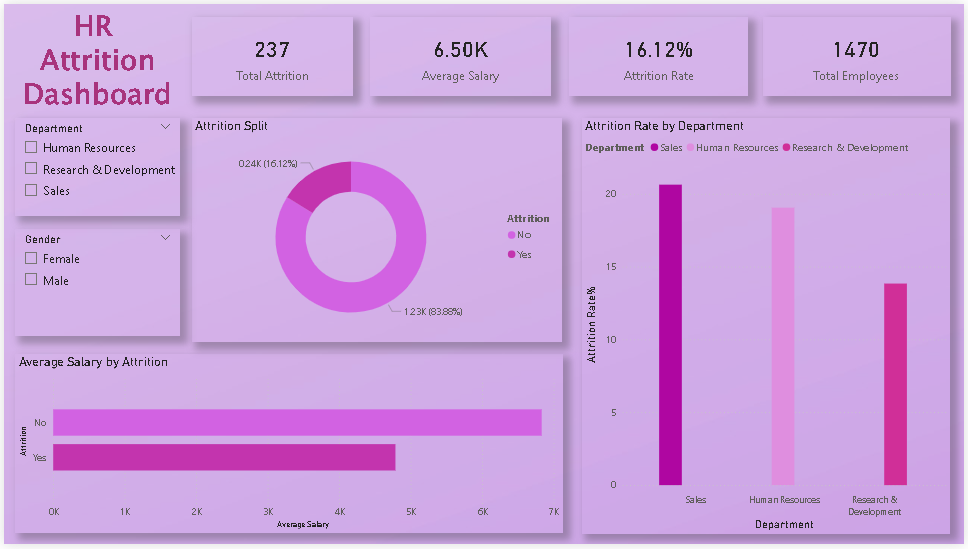

What the dashboard file says about the page in this screenshot:
{"tool":"powerbi","page":{"name":"HR Attrition Dashboard","canvas":[1280,720],"ordinal":0},"visuals":[{"type":"donutChart","title":"Attrition Split","fields":{"Category":["HR_Attrition_Clean.Attrition"],"Y":["CountNonNull(HR_Attrition_Clean.EmployeeNumber)"]},"box":[250.3,150.9,494.5,299.4],"z":0},{"type":"card","fields":{"Values":["HR_Attrition_Clean.Total Attrition"]},"box":[250.3,16,216,106.7],"z":1000},{"type":"card","fields":{"Values":["HR_Attrition_Clean.Total Employees"]},"box":[1011,16,250.3,106.7],"z":2000},{"type":"card","fields":{"Values":["HR_Attrition_Clean.Average Salary"]},"box":[488.3,16,241.7,106.7],"z":3000},{"type":"card","fields":{"Values":["HR_Attrition_Clean.Attrition Rate"]},"box":[753.4,16,239.3,106.7],"z":4000},{"type":"clusteredColumnChart","title":"Attrition Rate by Department ","fields":{"Category":["HR_Attrition_Clean.Department"],"Series":["HR_Attrition_Clean.Department"],"Y":["HR_Attrition_Clean.Attrition Rate%"]},"box":[769.3,150.9,492,554.6],"z":5000},{"type":"slicer","fields":{"Values":["HR_Attrition_Clean.Gender"]},"box":[14.7,300.6,219.6,143.6],"z":6000},{"type":"clusteredBarChart","fields":{"Category":["HR_Attrition_Clean.Attrition"],"Y":["HR_Attrition_Clean.Average Salary"]},"box":[14.7,467.5,730.1,238],"z":7000},{"type":"slicer","fields":{"Values":["HR_Attrition_Clean.Department"]},"box":[14.7,150.9,219.6,130.1],"z":8000},{"type":"textbox","box":[15,0,220,150],"z":9000}]}

Visuals, with their boxes in screenshot pixels (x1, y1, x2, y2), scaled from the page's 1280x720 canvas onto the 968x549 screenshot:
"Attrition Split" donutChart: x1=189 y1=115 x2=563 y2=343
card - HR_Attrition_Clean.Total Attrition: x1=189 y1=12 x2=353 y2=94
card - HR_Attrition_Clean.Total Employees: x1=765 y1=12 x2=954 y2=94
card - HR_Attrition_Clean.Average Salary: x1=369 y1=12 x2=552 y2=94
card - HR_Attrition_Clean.Attrition Rate: x1=570 y1=12 x2=751 y2=94
"Attrition Rate by Department " clusteredColumnChart: x1=582 y1=115 x2=954 y2=538
slicer - HR_Attrition_Clean.Gender: x1=11 y1=229 x2=177 y2=339
clusteredBarChart - HR_Attrition_Clean.Attrition x HR_Attrition_Clean.Average Salary: x1=11 y1=356 x2=563 y2=538
slicer - HR_Attrition_Clean.Department: x1=11 y1=115 x2=177 y2=214
textbox: x1=11 y1=0 x2=178 y2=114
